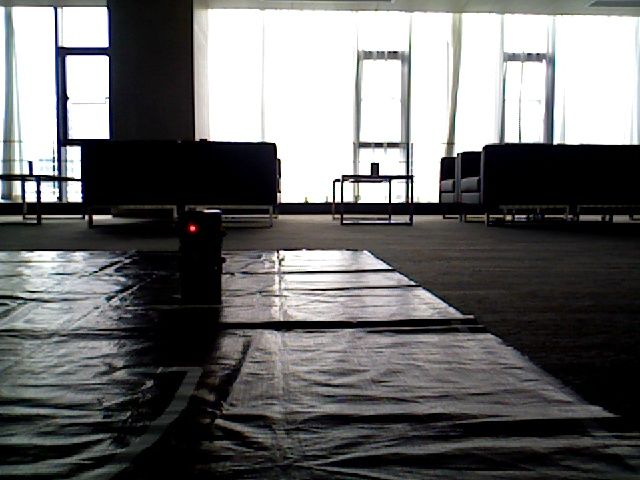red: (175, 210, 214, 284)
